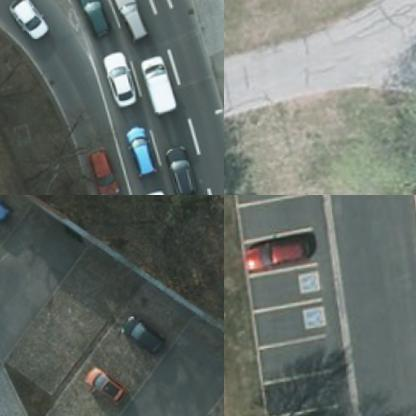car: (241, 234, 319, 286), (155, 144, 202, 194), (120, 126, 158, 186), (80, 143, 123, 194), (5, 0, 53, 45), (110, 0, 153, 50), (78, 368, 128, 409), (100, 55, 133, 117), (71, 0, 114, 45), (118, 323, 160, 360), (0, 195, 17, 229)
van: (132, 56, 180, 124)
